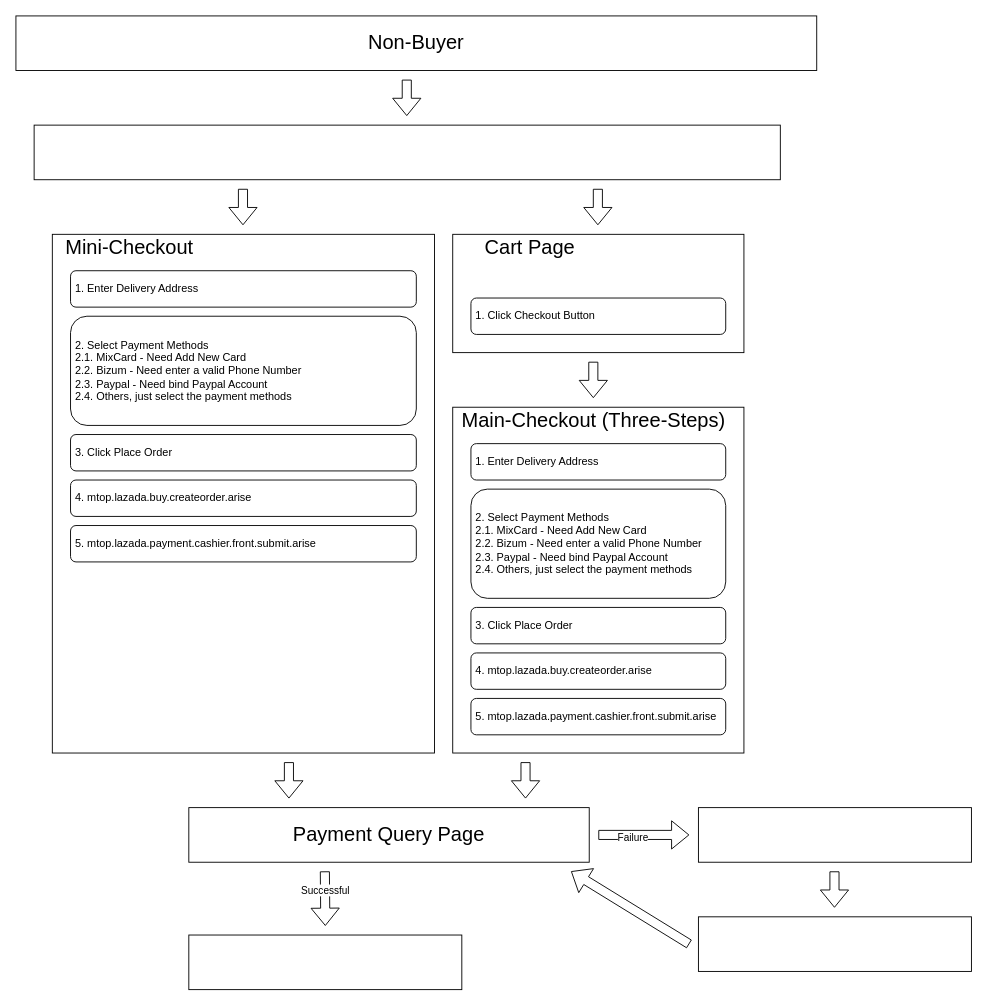
Some shapes in this 987 by 1006 pixel diagram are drawn without their labels. Each missing label, with the centre of its shape:
"Payment Result Page (Buyer)" goes at point 325,962.
"PDP Page" goes at point 406,152.
"UnPaid Orders" goes at point 834,834.
"二次收银台" goes at point 834,943.
